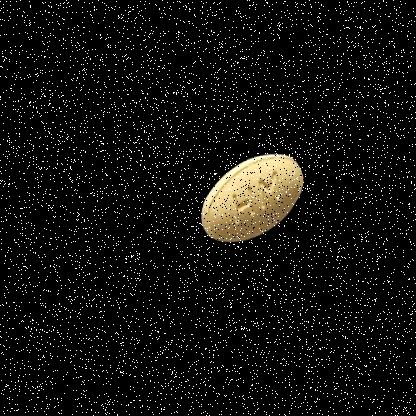tovast10: (176, 129, 334, 267)
